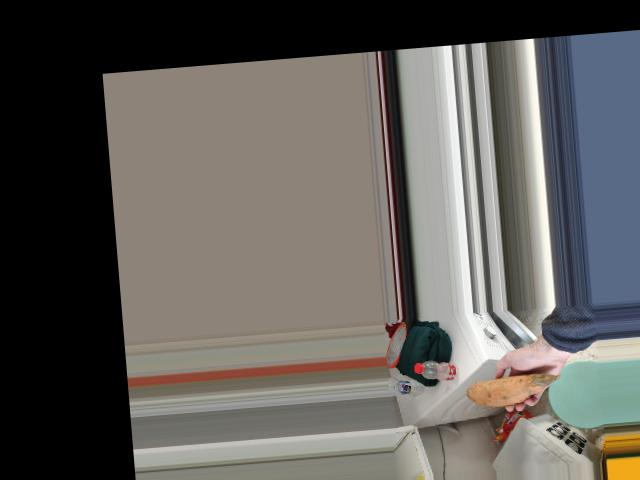sweet_potato: (474, 371, 556, 408)
